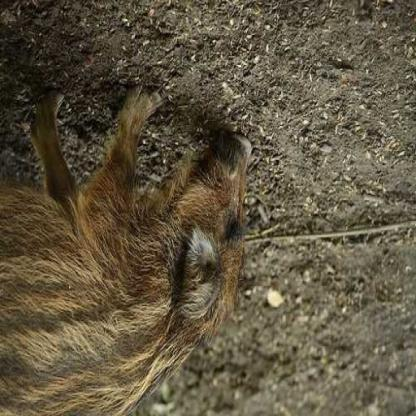boar: (4, 52, 282, 416)
